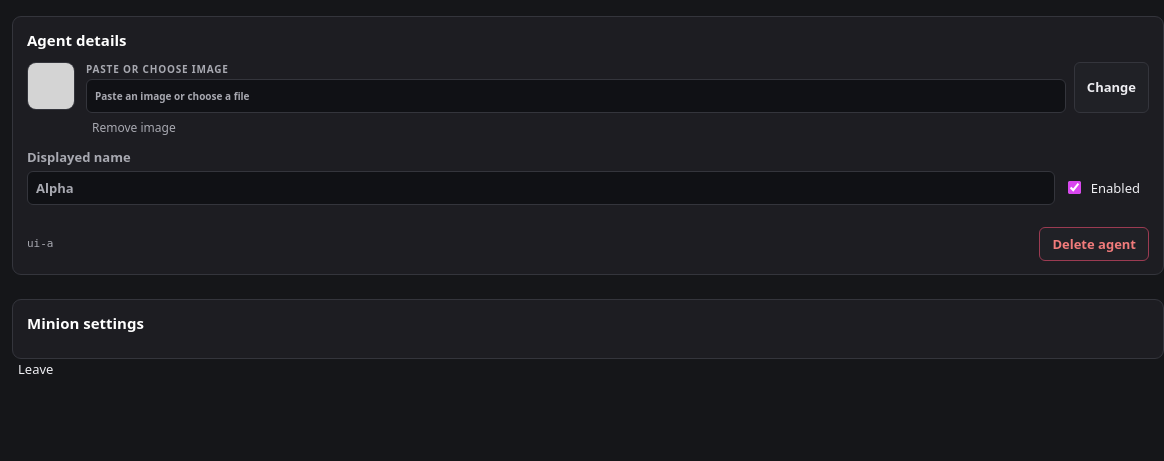
Test case: uses each endpoint’s accepted name for unrelated updates after partial acceptance
Replace the text in the field labelled "Displayed name" with "Beta" at (541, 188), box [27,171,1055,205]
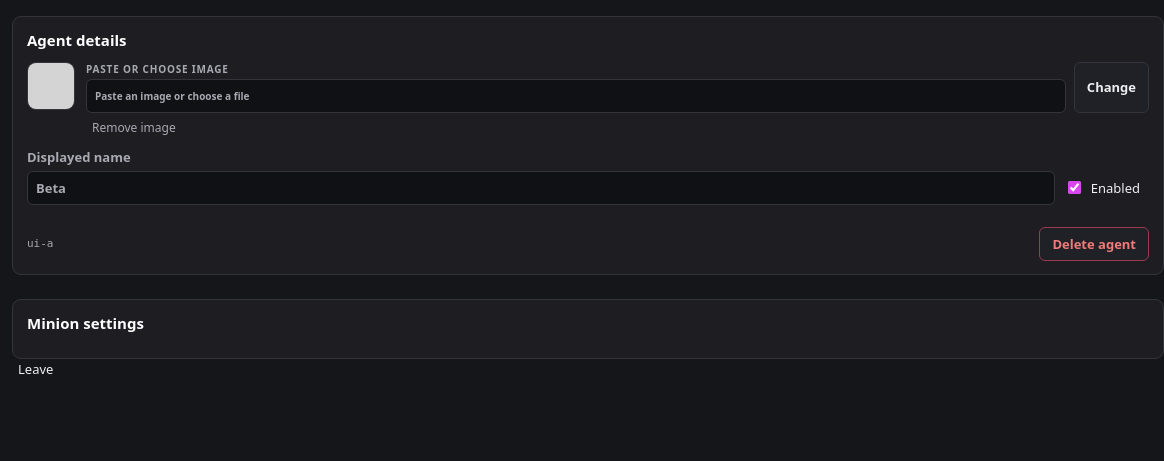
Leave the field labelled "Displayed name", box [27,171,1055,205]
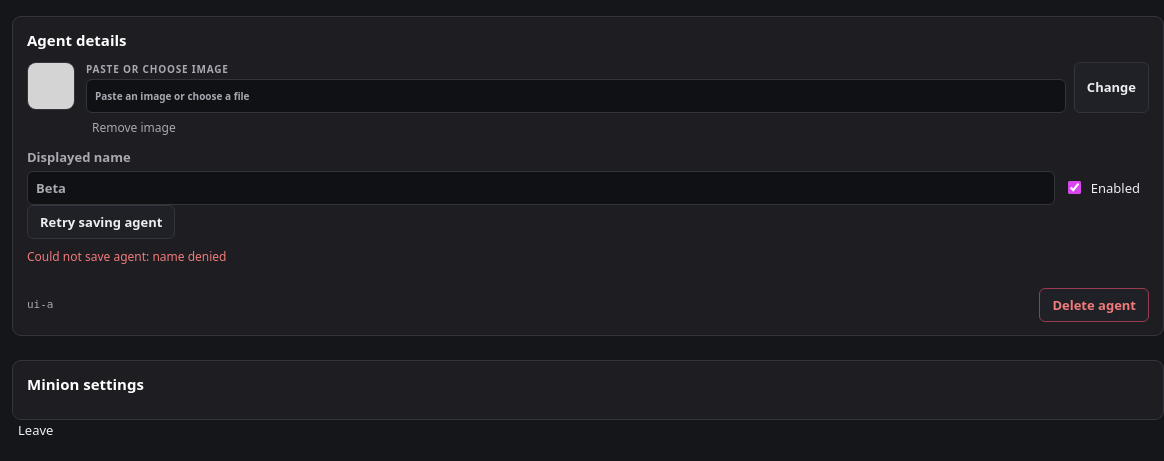
Now the text "Could not save agent: name denied" is shown, box [27,248,226,265]
Click the button "Remove image".
click(134, 128)  # box [86,119,182,138]
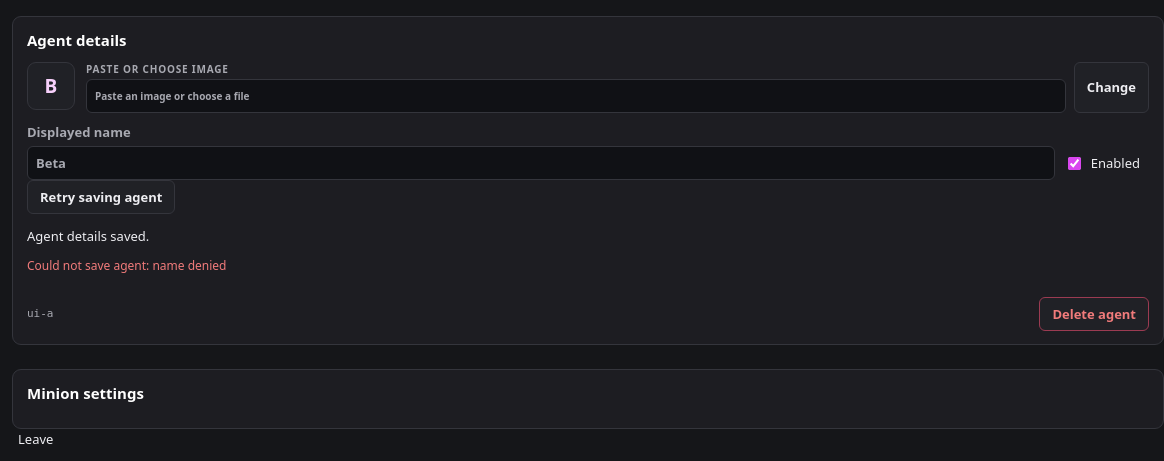
Now the button "Retry saving agent" is shown, box [27,180,175,214]
Now the text "Agent details saved." is shown, box [27,227,149,245]
Click the checkbox labelled "Enabled".
click(1074, 163)  # box [1068,157,1081,170]
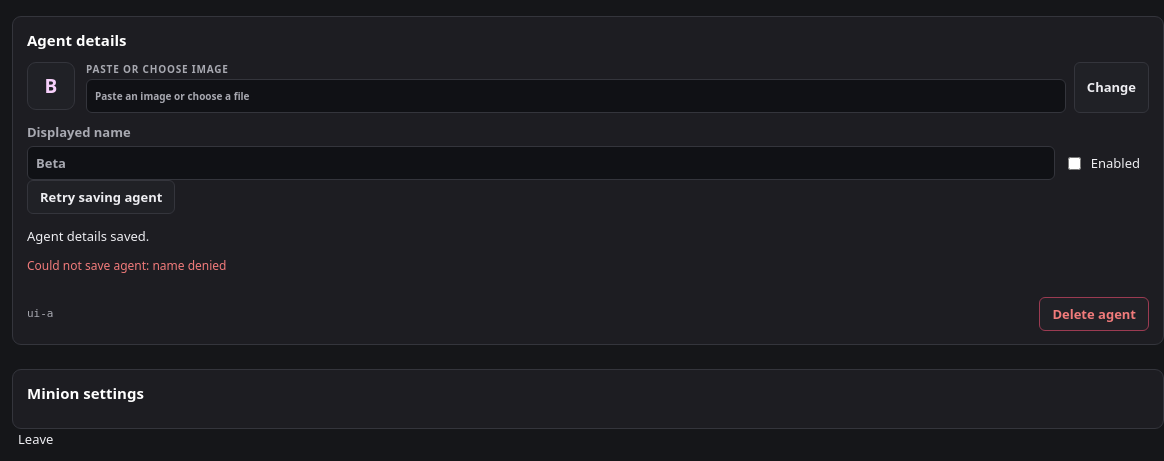
Expected: the field labelled "Displayed name" is enabled, [27,146,1055,180]
Click the button "Retry saving agent".
click(101, 197)  # box [27,180,175,214]
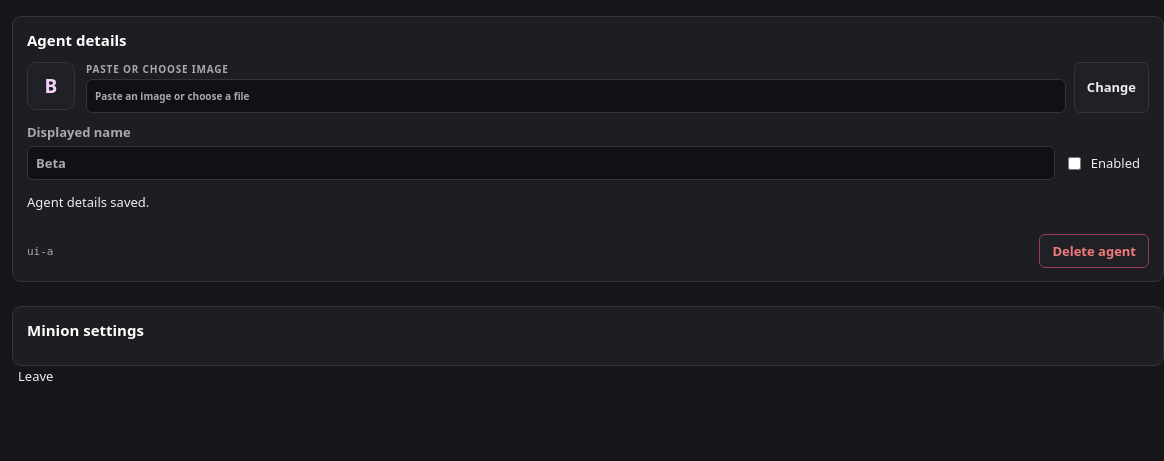
Now the button "Retry saving agent" is gone
